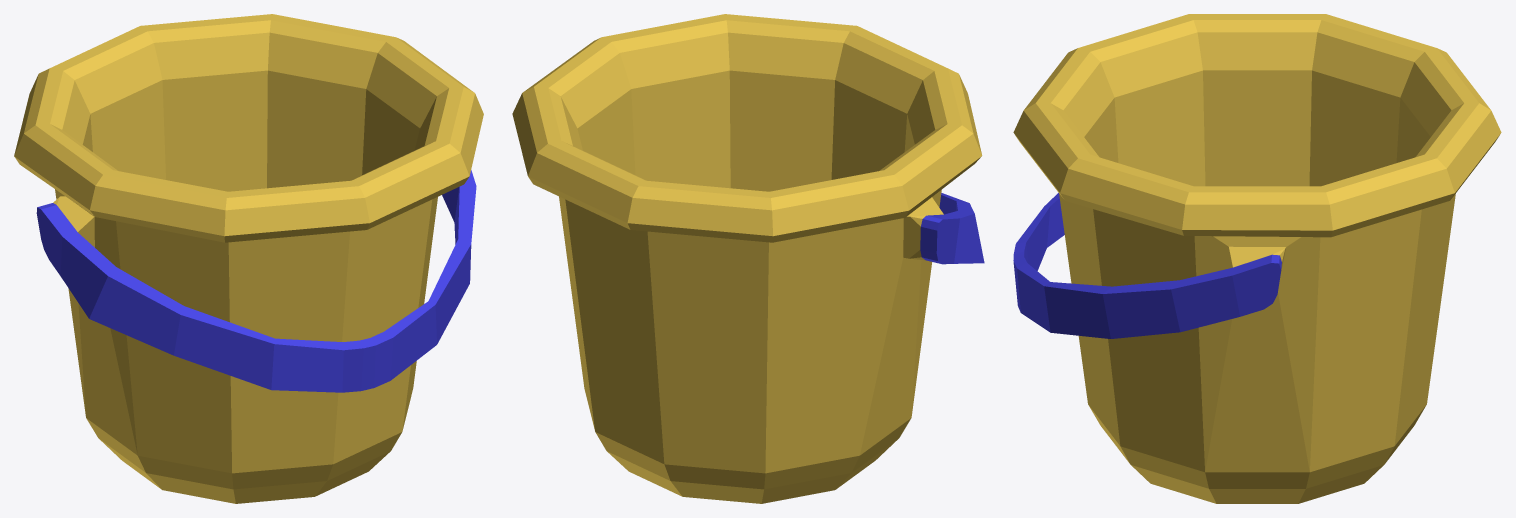
The model's file is bucket.fbx.
The picture shows the model from 3 angles, left to right: view 1: azimuth 30°, elevation 25°; view 2: azimuth 150°, elevation 25°; view 3: azimuth 270°, elevation 25°; orthographic projection.
Visible parts, largest first — view 1: bucket; view 2: bucket; view 3: bucket.
Part boxes in pixels (x1=…): bucket: x1=14, y1=14, x2=483, y2=503; bucket: x1=512, y1=14, x2=984, y2=503; bucket: x1=1013, y1=14, x2=1501, y2=503.
Size of the model in its own units: 115 by 93.23 by 119.
